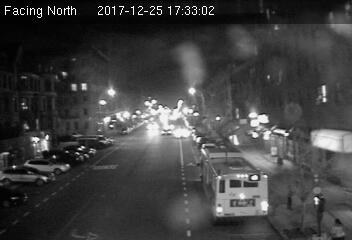bus: (197, 145, 268, 222)
car: (174, 127, 192, 140), (160, 127, 172, 136)
